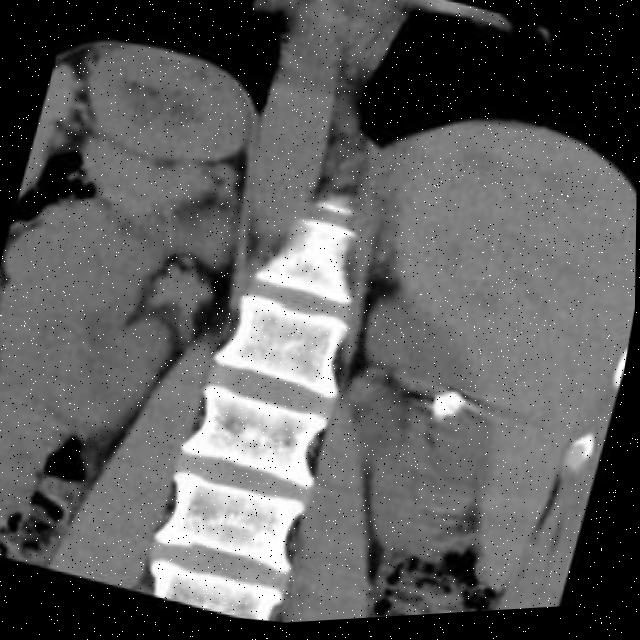Tas_Var: (428, 397, 460, 428), (443, 395, 468, 417)
